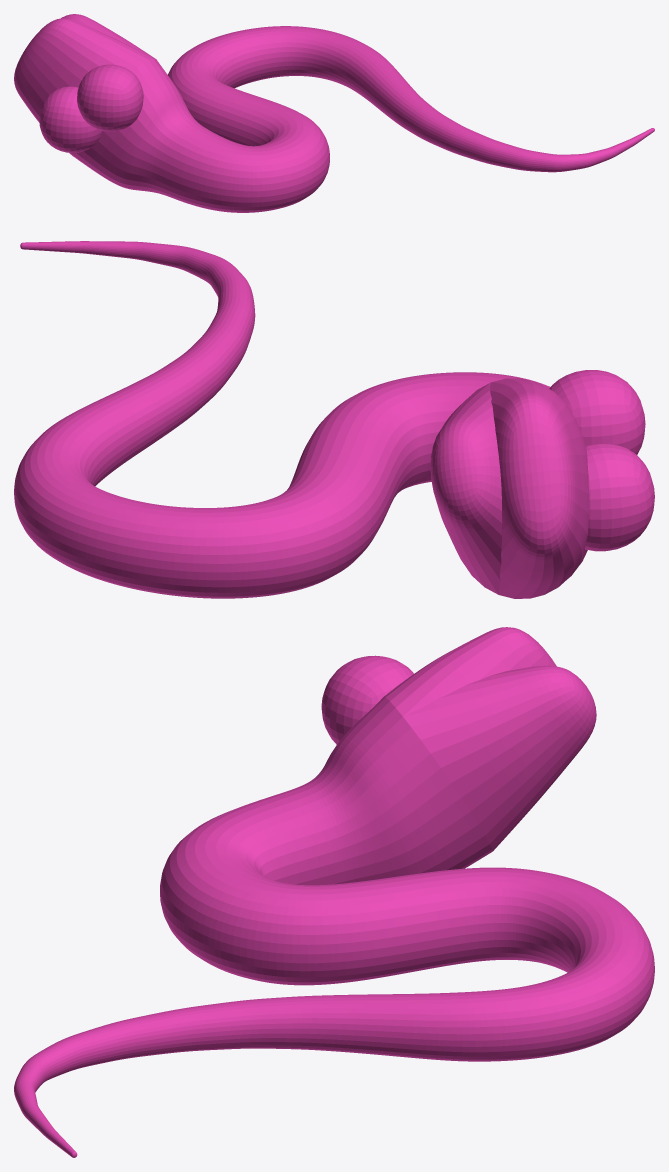
Rendered from snake4.glb.
3 views of the same model, one above another, from view 1: azimuth 30°, elevation 25°; view 2: azimuth 150°, elevation 25°; view 3: azimuth 270°, elevation 25° (orthographic). The views are drawn at different scales.
Visible parts, largest first — view 1: Cube.001; view 2: Cube.001; view 3: Cube.001.
Boxes of the visible parts, bbox=[...] form: Cube.001: bbox=[14, 14, 654, 212]; Cube.001: bbox=[14, 241, 654, 598]; Cube.001: bbox=[14, 627, 654, 1157].
Bounding box in the file's own units: 0.5303 × 0.1513 × 0.38.
